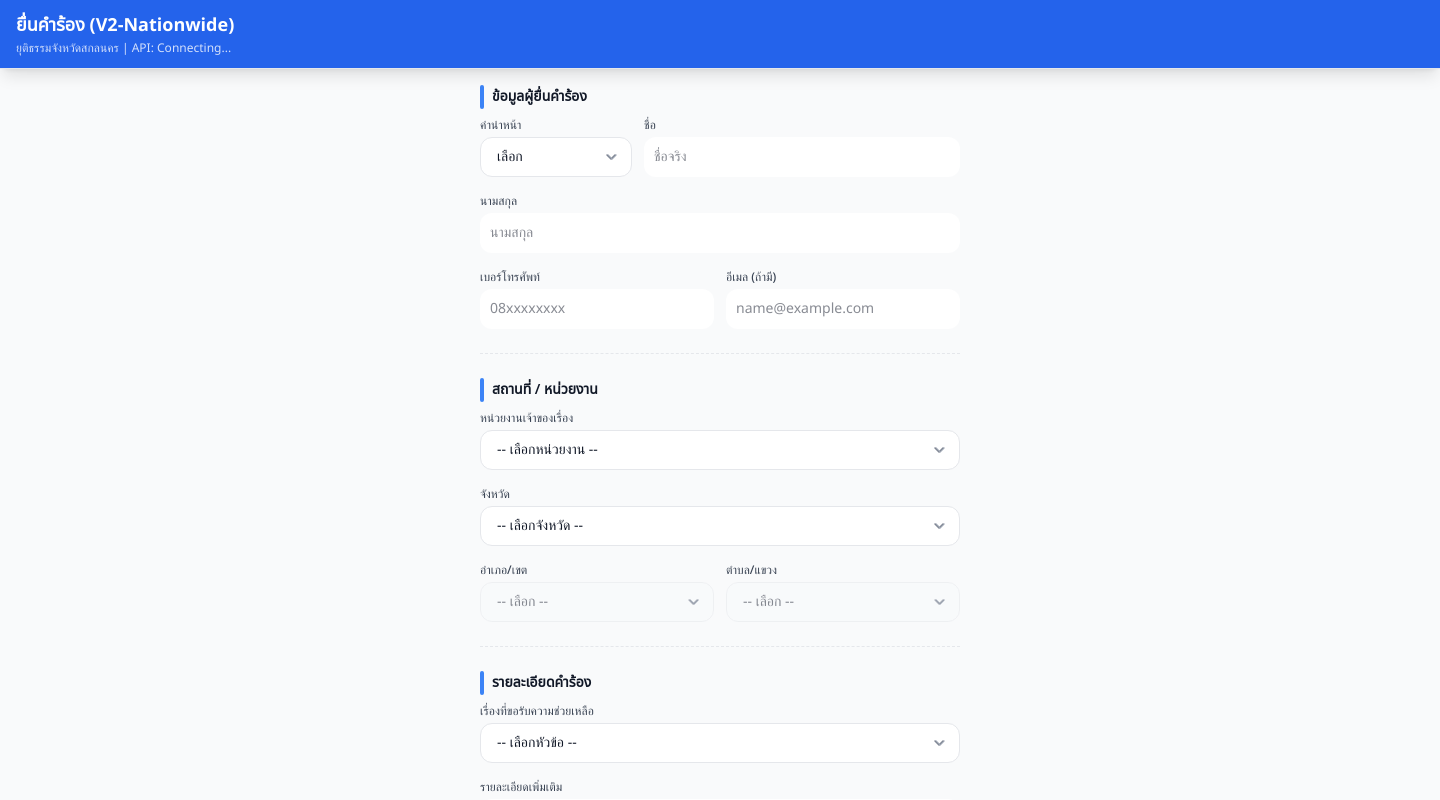
it: LIFF request-v2 phone input (R3-M29) › strips non-digits and shows the digits placeholder
The image size is (1440, 800).
Type "081-234-5678" into the field named "phone".
click(597, 309); type("081-234-5678")  # box [480,289,714,329]
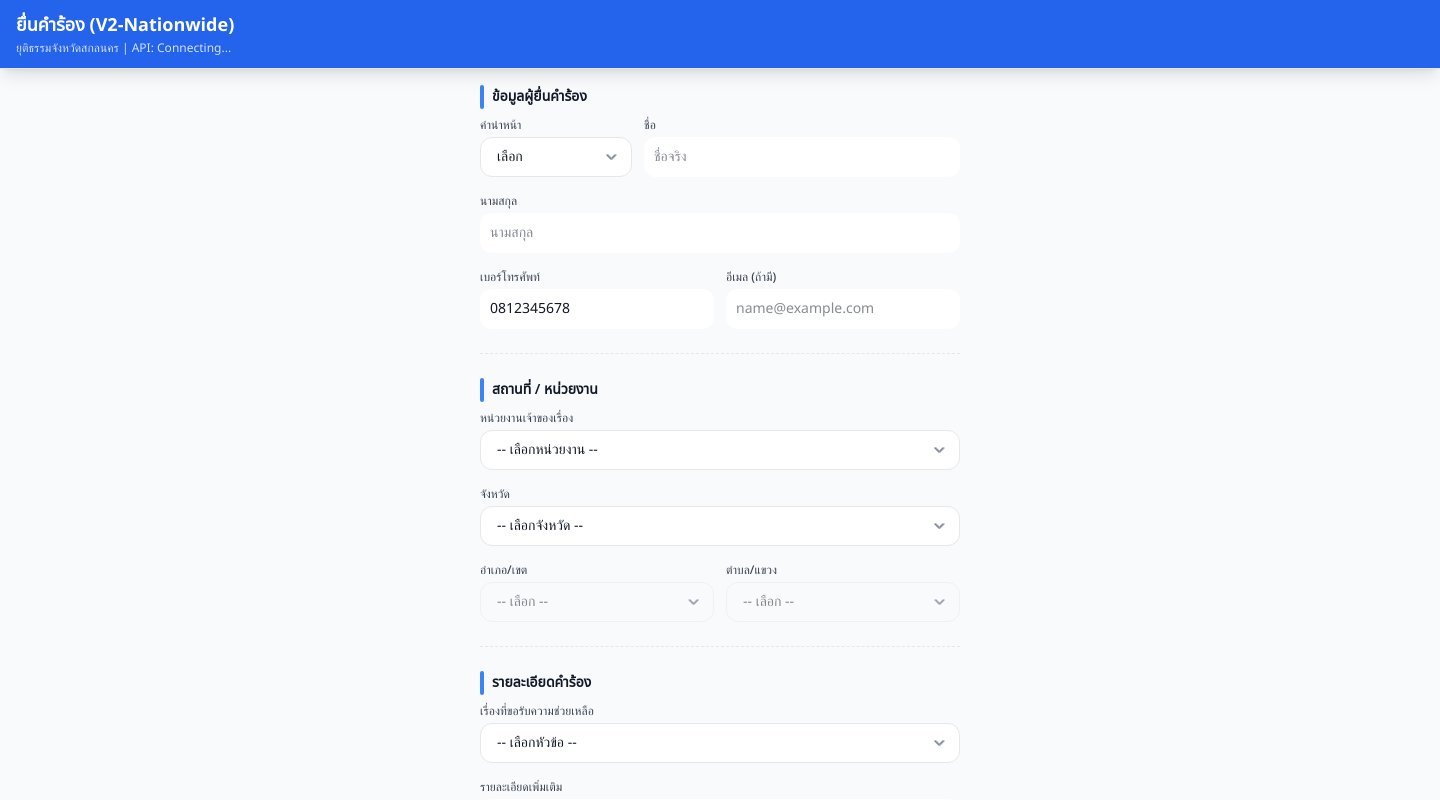
Expected: the field named "phone" holds "0812345678", [480,289,714,329]
